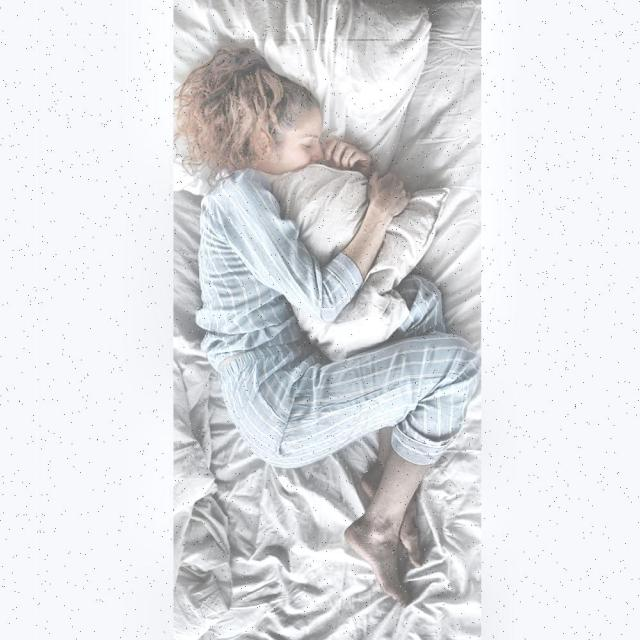Not_Supine: (176, 50, 479, 602)
